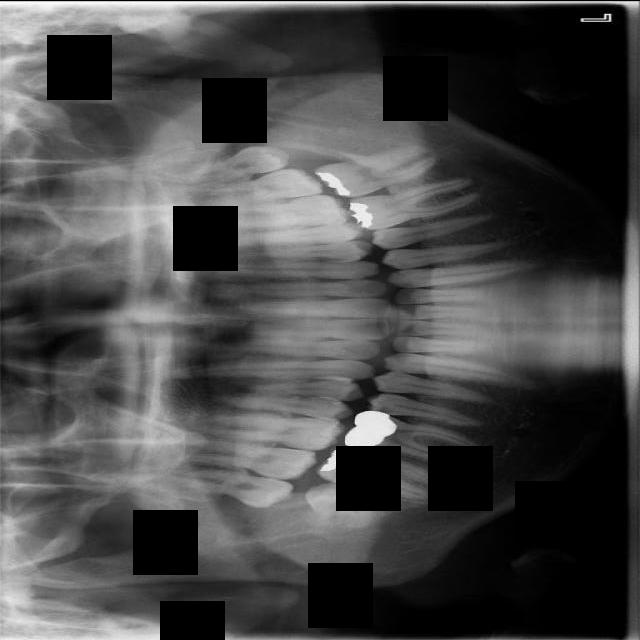3M ESPE Implant: (156, 454, 296, 512)
52: (315, 429, 379, 495), (312, 150, 375, 209), (343, 401, 401, 461), (347, 194, 396, 230)
73: (618, 7, 628, 20)
BioHorizons Implant: (184, 161, 325, 213)
BioLife Implant: (180, 141, 290, 185)
Blue Sky Bio Implant: (312, 135, 441, 206)
Caries: (181, 431, 317, 483)
Implant: (316, 438, 445, 503)
Keystone Dental Implant: (303, 472, 383, 536)
